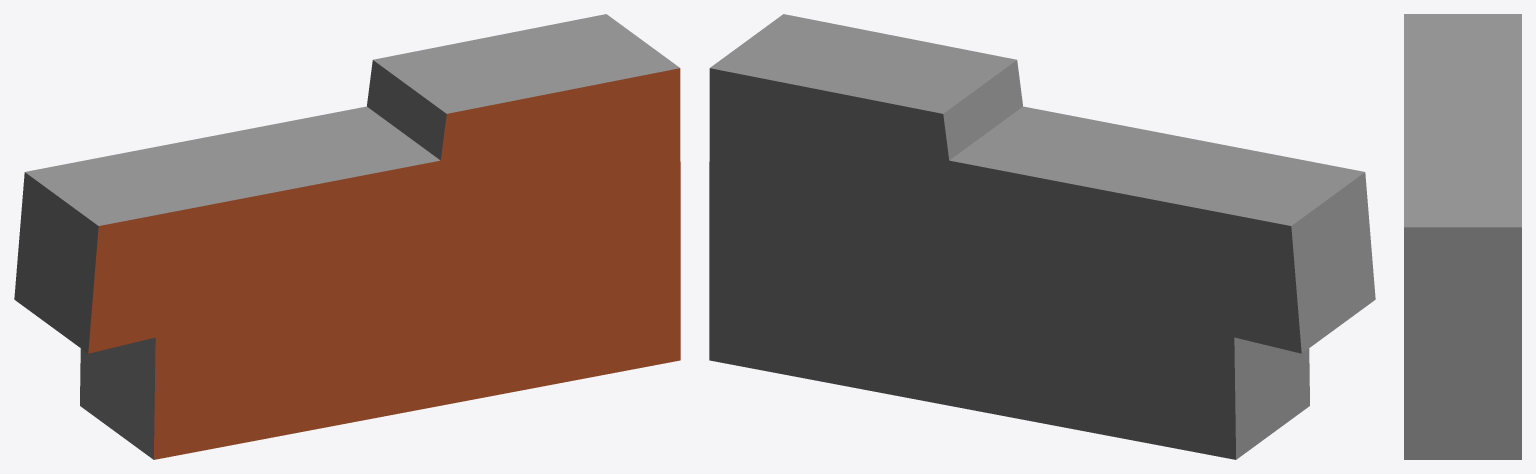
The model's file is construction_6572_assumed_A_Casa_h6m.obj.
3 views of the same model, side by side, from view 1: azimuth 30°, elevation 25°; view 2: azimuth 150°, elevation 25°; view 3: azimuth 270°, elevation 25° (orthographic). The views are drawn at different scales.
Visible parts, largest first — view 1: construction_6572_assumed_A_Casa; view 2: construction_6572_assumed_A_Casa; view 3: construction_6572_assumed_A_Casa.
Boxes of the visible parts, x1,y1,x2,y2 form: construction_6572_assumed_A_Casa: (14,14,680,459); construction_6572_assumed_A_Casa: (709,14,1375,459); construction_6572_assumed_A_Casa: (1404,14,1521,459).
Size of the model in its own units: 27.75 by 13.59 by 6.
